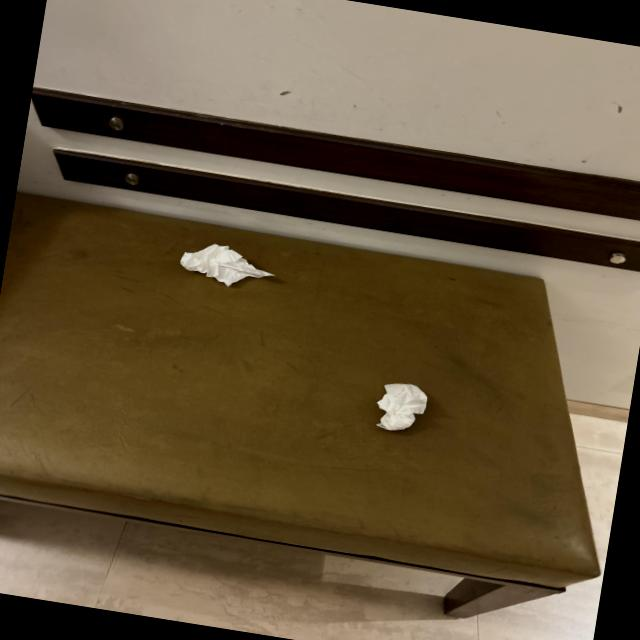mess: (0, 149, 640, 614)
